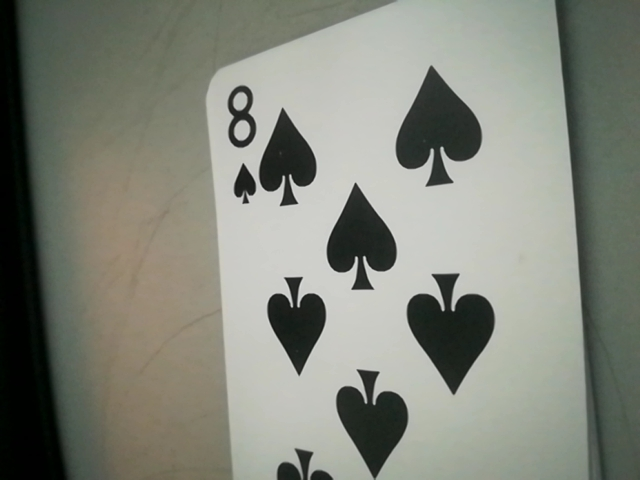ht 8: (213, 76, 277, 211)
